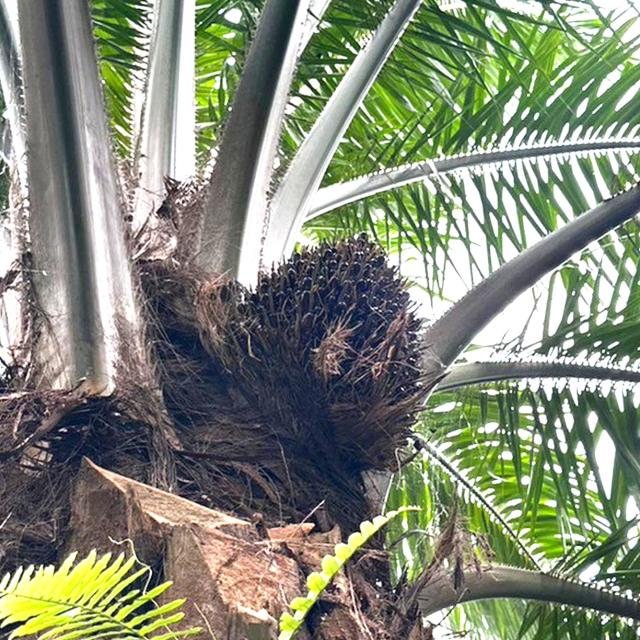unripe: (213, 221, 456, 464)
